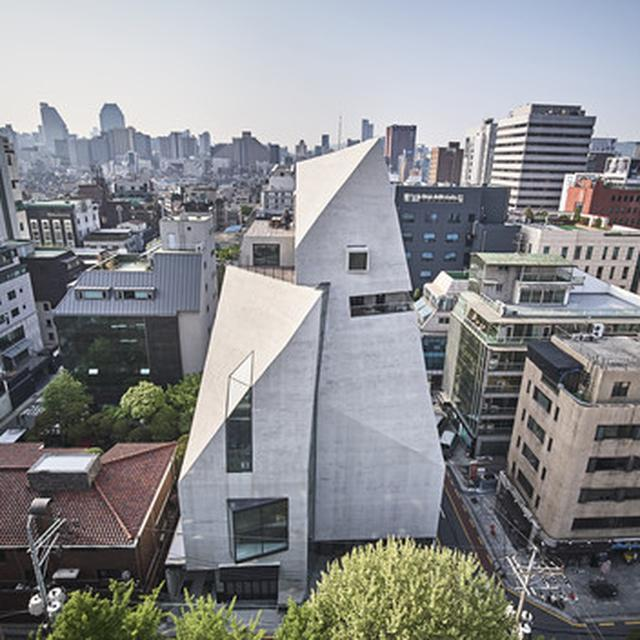building: (180, 137, 446, 615), (442, 244, 640, 460), (503, 323, 640, 562), (0, 437, 188, 609), (47, 245, 217, 385), (391, 177, 517, 283), (489, 100, 598, 215), (512, 214, 640, 291), (563, 167, 640, 230), (26, 190, 102, 249), (37, 99, 79, 165), (377, 118, 425, 174), (95, 100, 138, 160), (210, 124, 266, 170), (425, 140, 460, 188)
